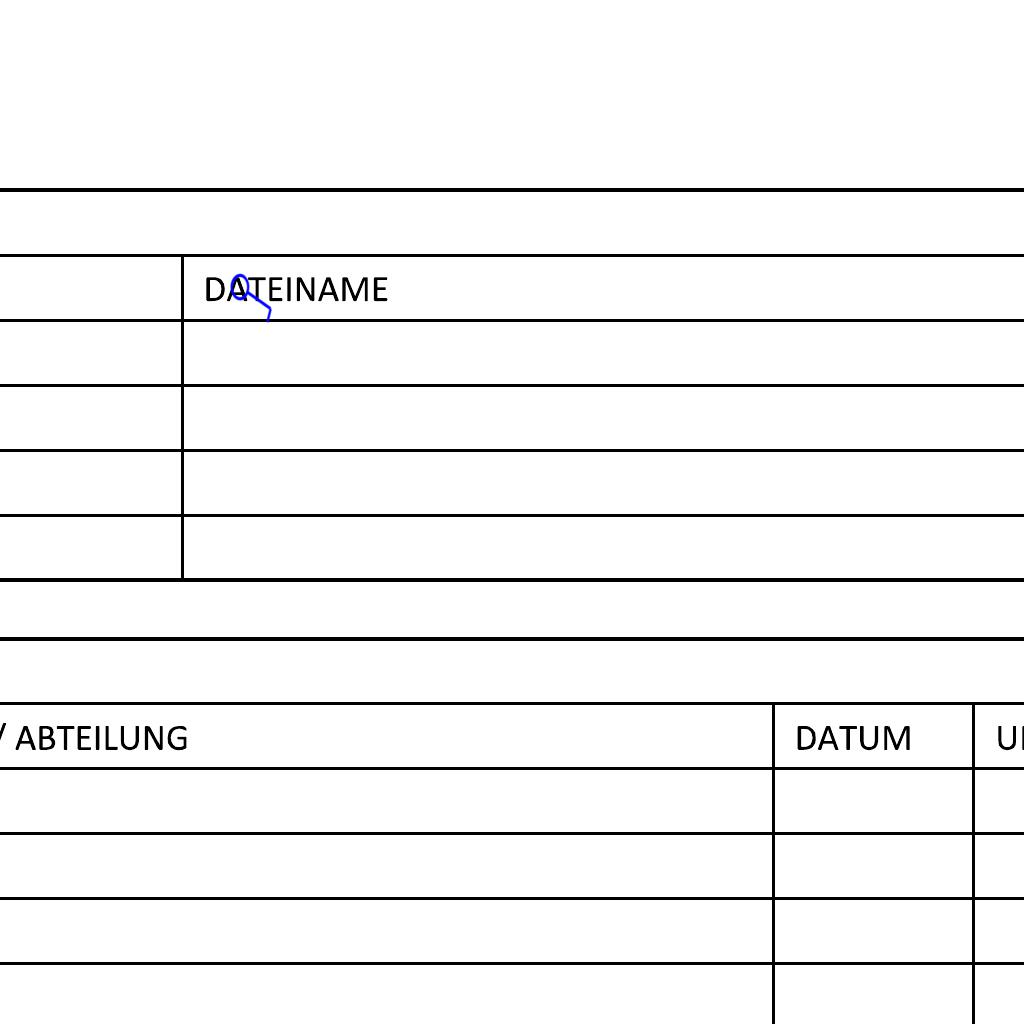Ausschalter: (229, 268, 277, 324)
